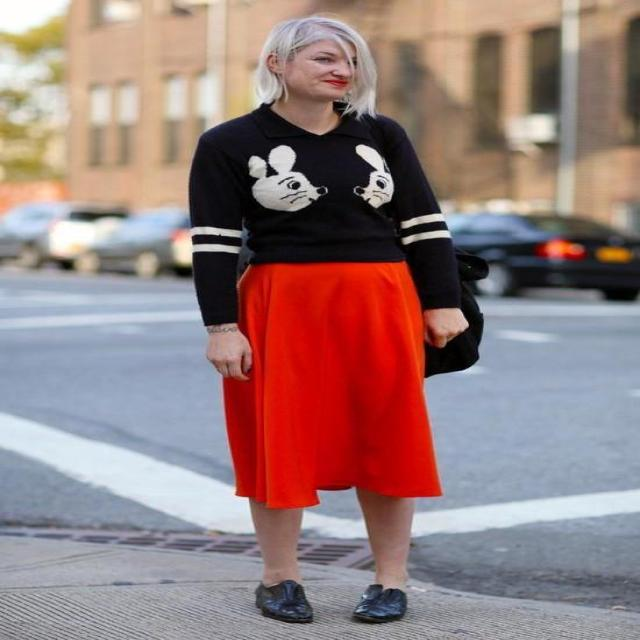skirt: (220, 262, 440, 508)
sweater: (185, 100, 462, 328)
